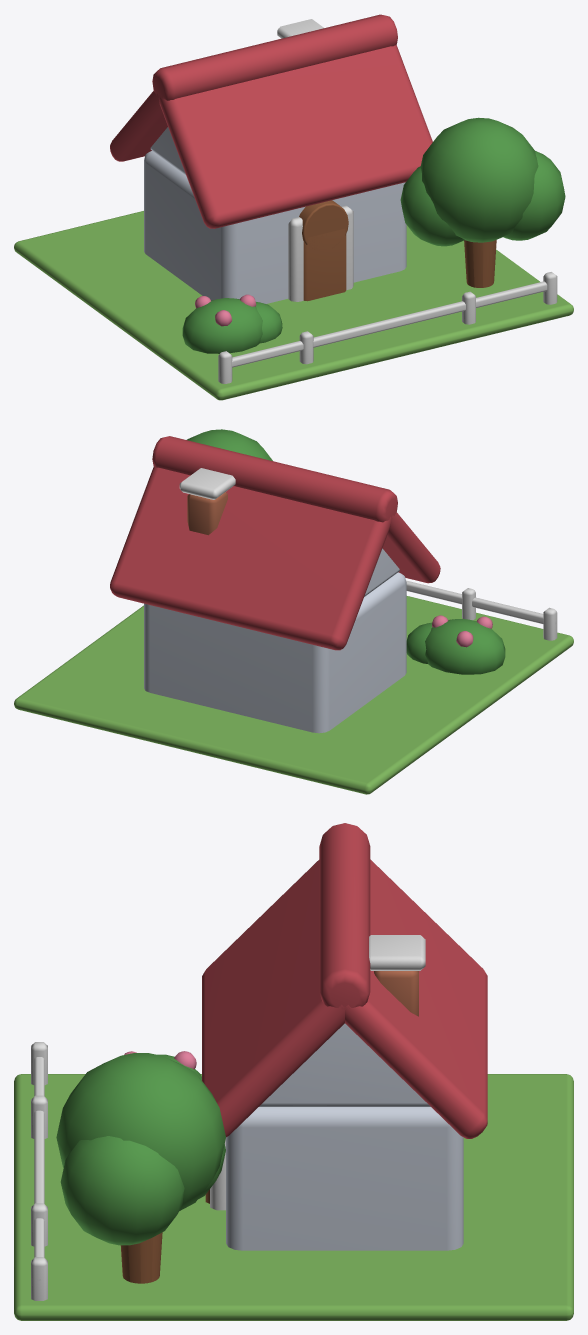
3 views of the same model, one above another, from view 1: azimuth 30°, elevation 25°; view 2: azimuth 150°, elevation 25°; view 3: azimuth 270°, elevation 25° (orthographic). The views are drawn at different scales.
Visible parts, largest first — view 1: Cube; view 2: Cube; view 3: Cube.
Part boxes in pixels (<box>): Cube: <box>14,14,573,400</box>; Cube: <box>14,429,573,794</box>; Cube: <box>14,823,573,1320</box>.
Size of the model in its own units: 0.7031 by 0.414 by 0.66.
